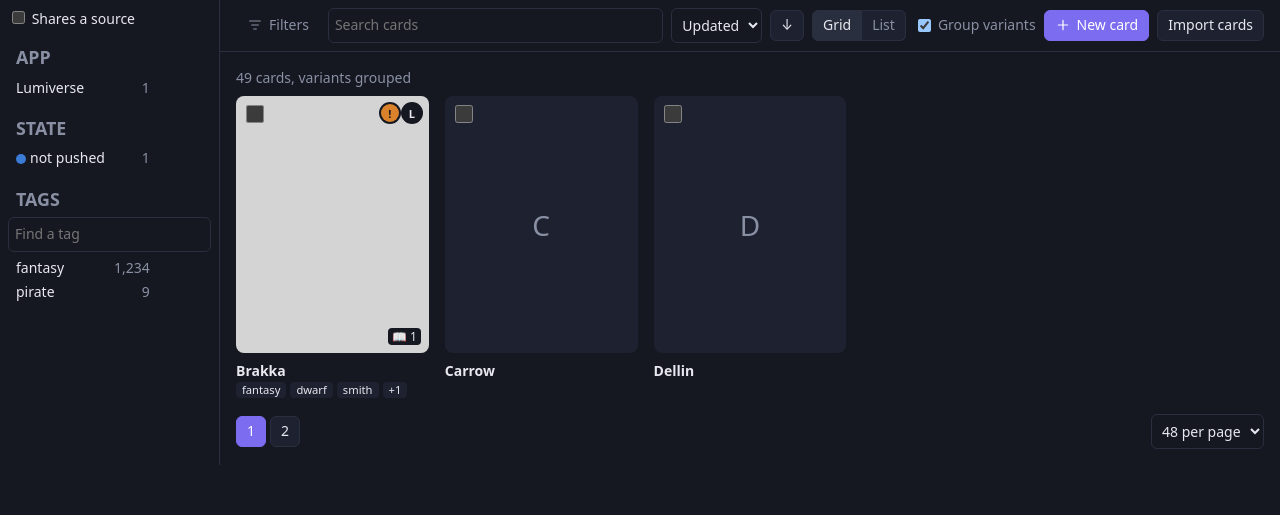
Test: select page in the selection bar adds the rest of the page
Click the checkbox named "Select Carrow": x=464, y=114 [455, 105, 473, 123]
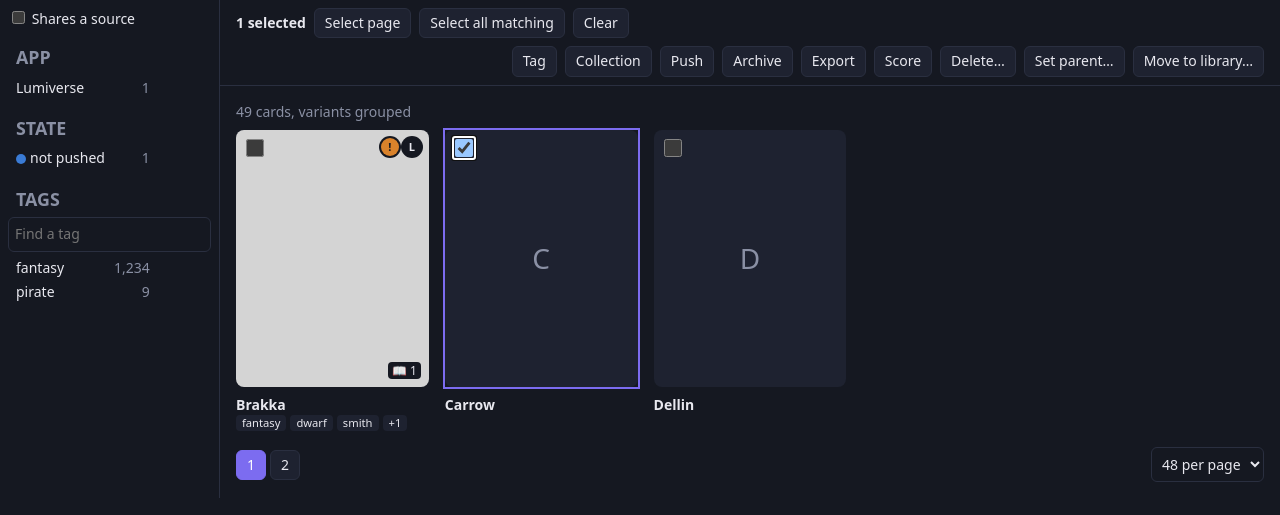
Click the button "Select page": x=363, y=23 [314, 8, 411, 38]
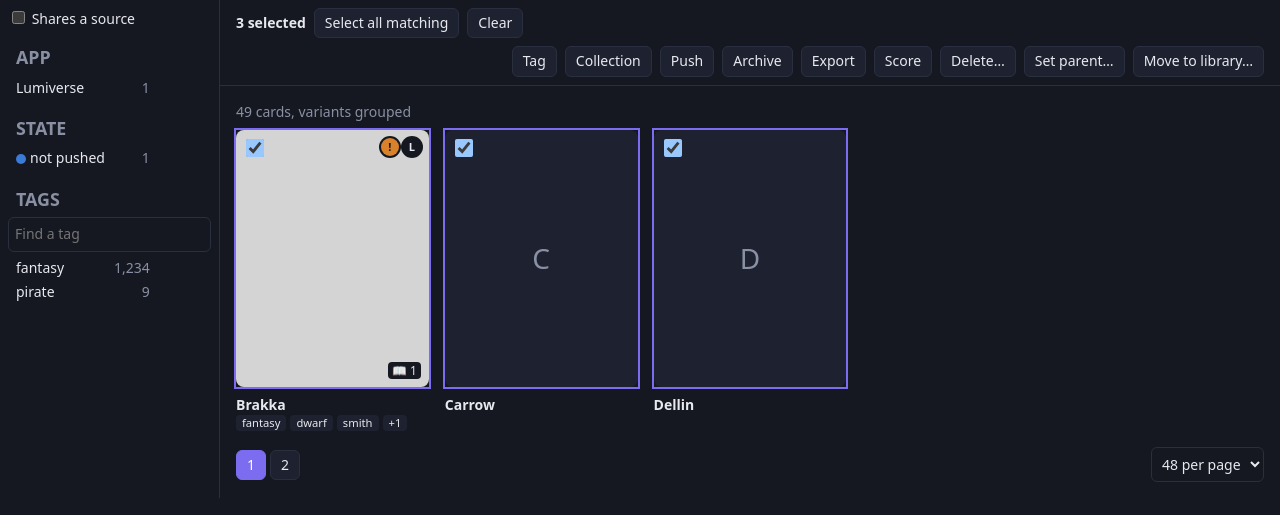
Expected: the text "3 selected" is shown, [236, 13, 306, 33]
